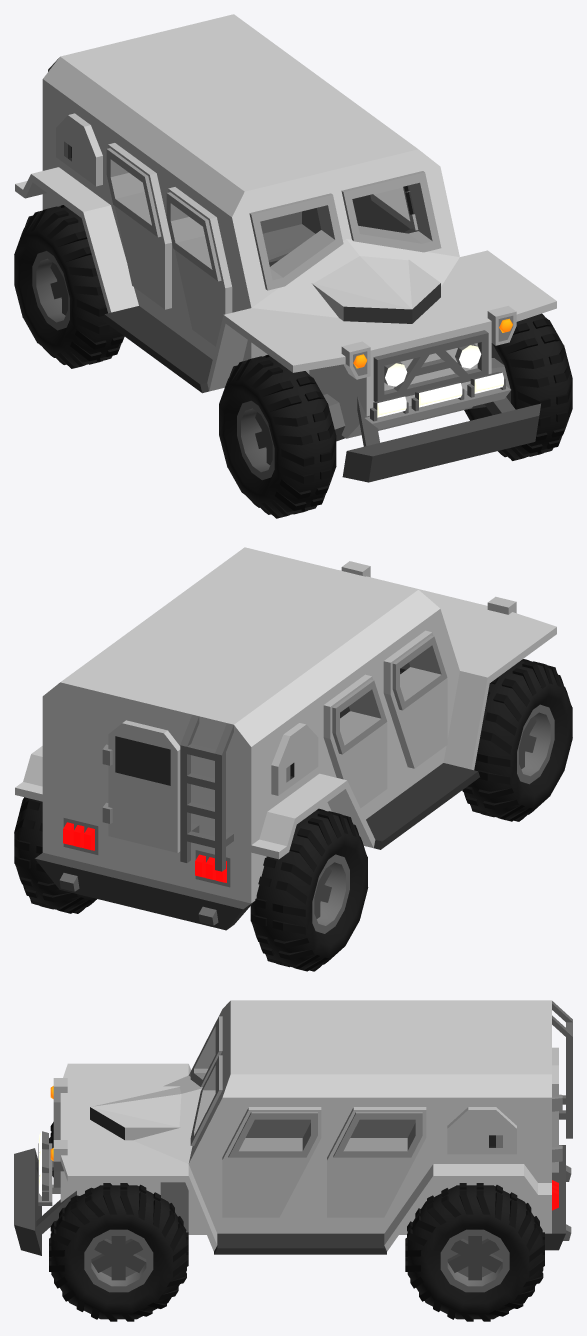
The model's file is mommypls.fbx.
3 views of the same model, one above another, from view 1: azimuth 30°, elevation 25°; view 2: azimuth 150°, elevation 25°; view 3: azimuth 270°, elevation 25° (orthographic). The views are drawn at different scales.
Parts seen in each view (by area): view 1: Body, WHEEL_0.003, WHEEL_0.002, WHEEL_0.001, SIREN, LIGHTS_FRONT; view 2: Body, WHEEL_0.002, WHEEL_0.003, WHEEL_0, LIGHTS_REAR; view 3: Body, WHEEL_0.001, WHEEL_0.
Part boxes in pixels (x1,y1,x2,y2): Body: (15,14,556,482); WHEEL_0.003: (219,355,336,518); WHEEL_0.002: (14,205,124,368); WHEEL_0.001: (464,313,572,460); SIREN: (377,372,503,417); LIGHTS_FRONT: (385,345,481,386); Body: (15,547,556,930); WHEEL_0.002: (250,808,368,971); WHEEL_0.003: (462,659,572,821); WHEEL_0: (14,797,96,913); LIGHTS_REAR: (63,822,226,882); Body: (14,1000,572,1255); WHEEL_0.001: (49,1183,188,1321); WHEEL_0: (405,1183,544,1321).
Size of the model in its own units: 420 by 360 by 800.
